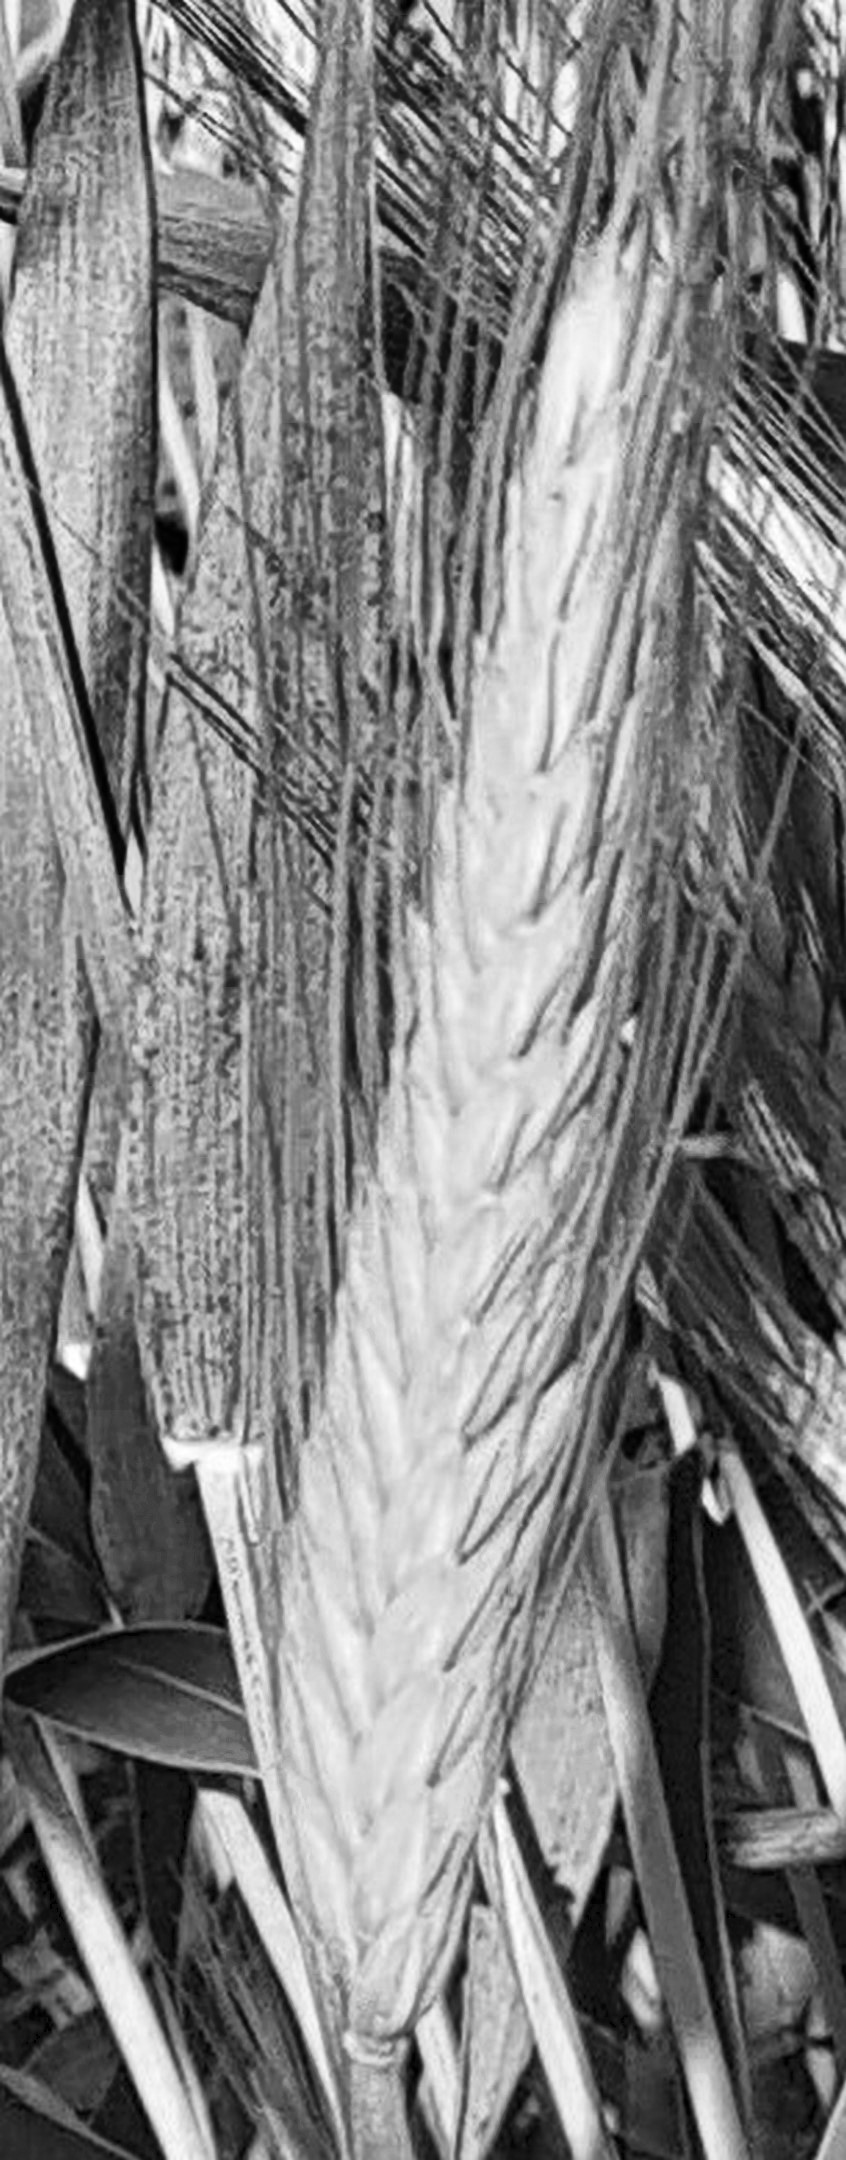Healthy Wheat: (265, 287, 763, 1996)
